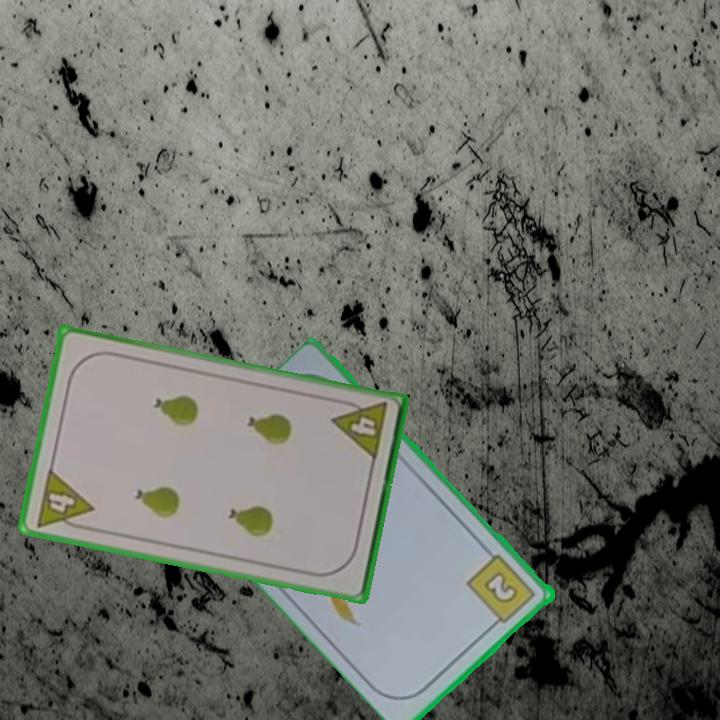2b: (464, 550, 539, 631)
4p: (32, 465, 96, 534), (329, 396, 390, 464)
